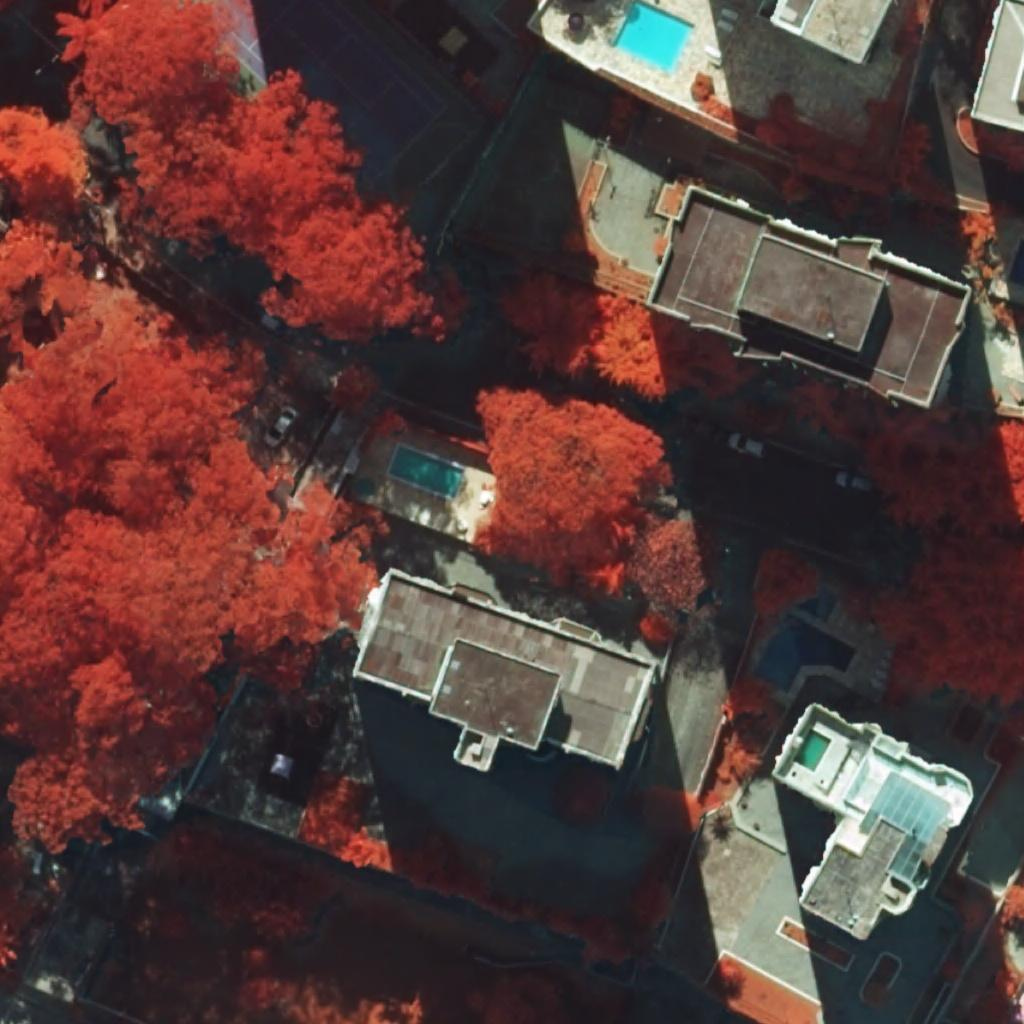pool: (752, 613, 858, 694), (612, 0, 695, 73), (389, 446, 463, 497), (793, 728, 832, 772)
